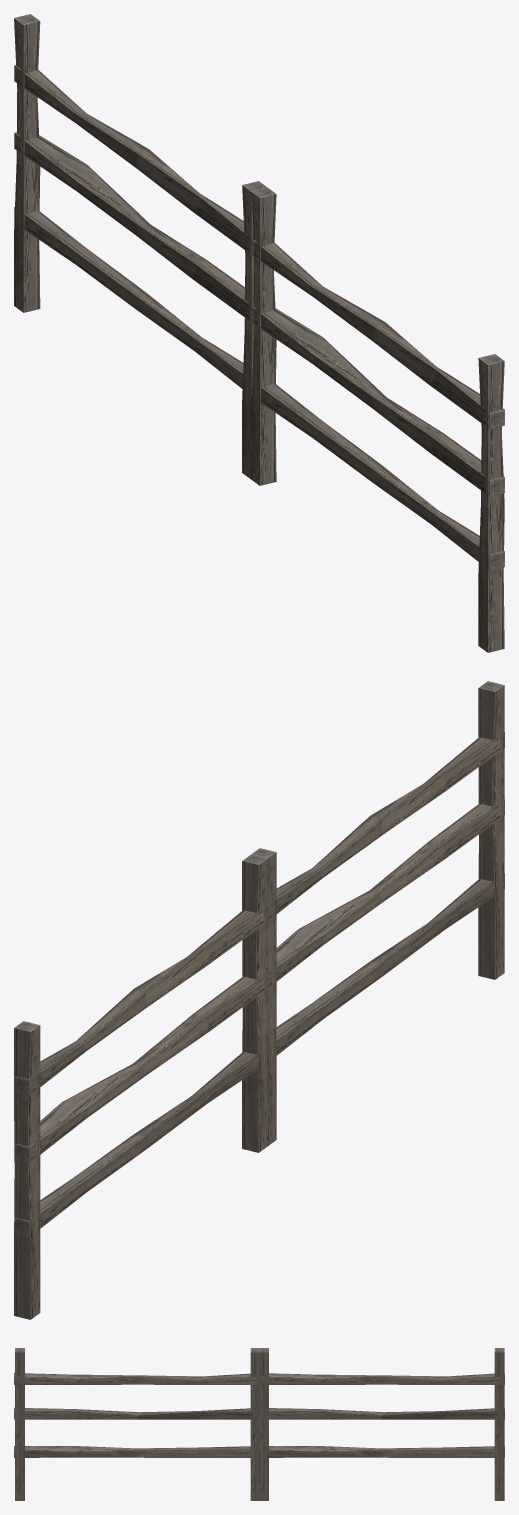
File: Valla.fbx
3 renders of one model, top to bottom at view 1: azimuth 30°, elevation 25°; view 2: azimuth 150°, elevation 25°; view 3: azimuth 270°, elevation 25°, orthographic. The views are drawn at different scales.
Parts seen in each view (by area): view 1: Cube.002, Cube.001; view 2: Cube.001, Cube.002; view 3: Cube.002, Cube.001.
Boxes of the visible parts, bbox=[...] form: Cube.002: bbox=[250, 187, 504, 652]; Cube.001: bbox=[14, 14, 266, 479]; Cube.001: bbox=[14, 854, 268, 1319]; Cube.002: bbox=[252, 681, 504, 1145]; Cube.002: bbox=[14, 1348, 260, 1500]; Cube.001: bbox=[259, 1348, 504, 1500].
Bounding box in the file's own units: 13.9 × 183 × 547.
